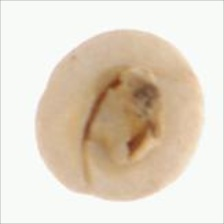L3: (90, 68, 161, 158)
L4: (35, 29, 203, 202)
